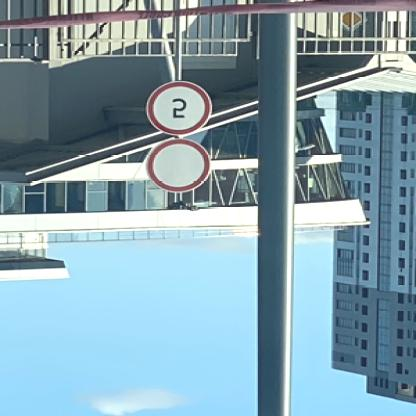speedlimit: (143, 82, 209, 135)
